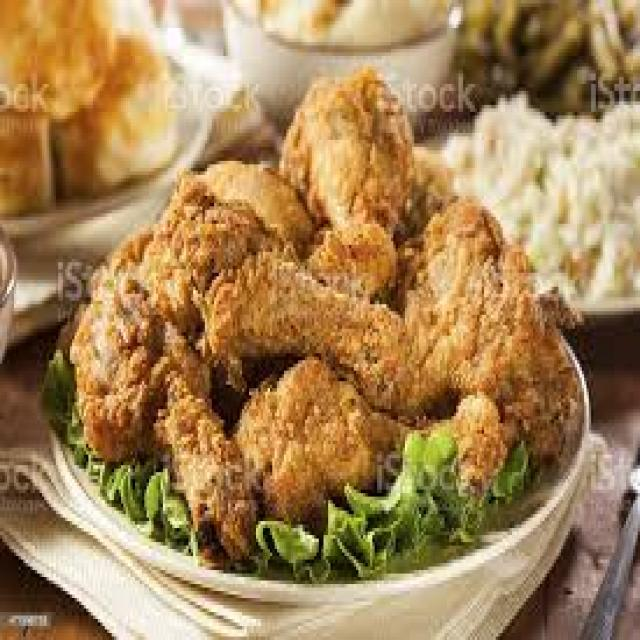Frango: (220, 231, 558, 439), (278, 65, 423, 286)
